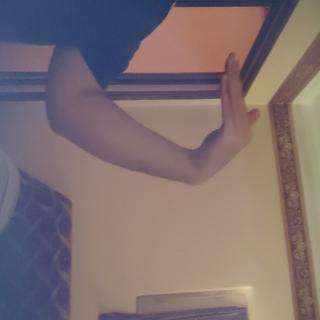KHAA: (40, 73, 142, 179)
